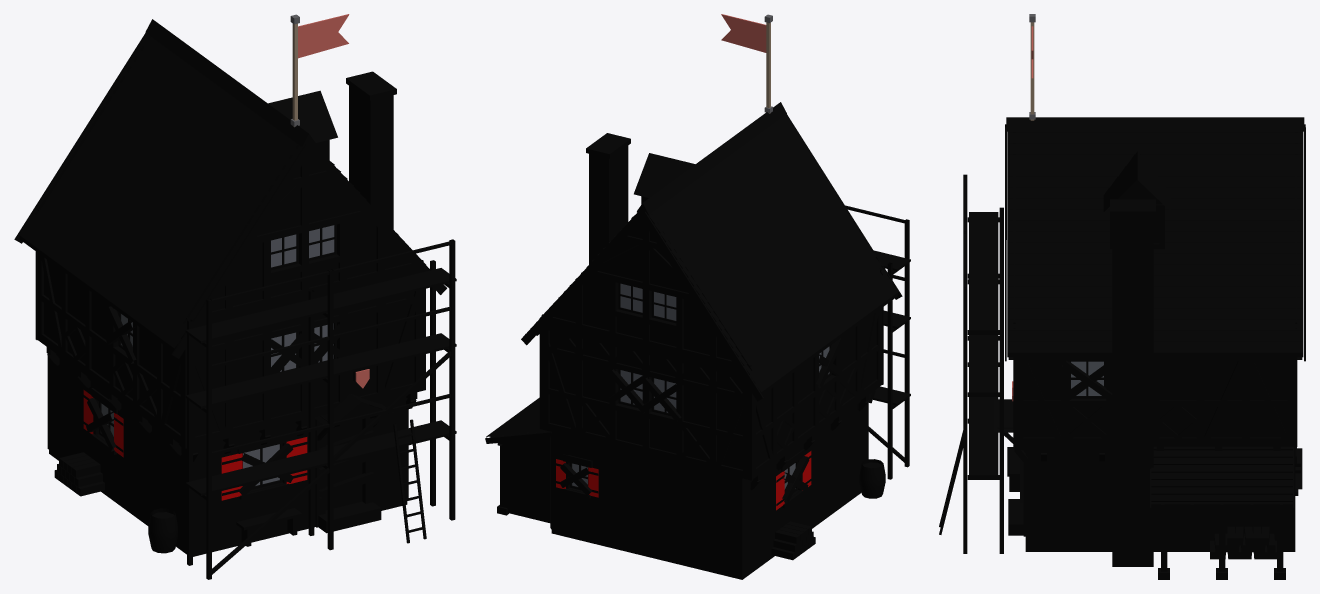
The model's file is wohnhaus_mensch_s2_g3.glb.
3 renders of one model, left to right at view 1: azimuth 30°, elevation 25°; view 2: azimuth 150°, elevation 25°; view 3: azimuth 270°, elevation 25°, orthographic. The views are drawn at different scales.
Parts seen in each view (by area): view 1: Haus, Dach, Geruest, Leerstand, Scheiben, Fahne; view 2: Haus, Dach, Geruest, Leerstand, Scheiben, Fahne; view 3: Dach, Haus, Geruest, Leerstand, Fahne, Scheiben.
Part boxes in pixels (x1,y1,x2,y2): Haus: (35, 36, 425, 556); Dach: (14, 19, 446, 358); Geruest: (185, 239, 456, 579); Leerstand: (86, 306, 374, 498); Scheiben: (101, 225, 334, 485); Fahne: (290, 14, 349, 127); Haus: (497, 117, 885, 579); Dach: (485, 102, 902, 443); Geruest: (845, 205, 910, 479); Leerstand: (559, 338, 843, 502); Scheiben: (572, 283, 829, 489); Fahne: (721, 14, 772, 113); Dach: (1005, 117, 1305, 507); Haus: (993, 132, 1298, 579); Geruest: (939, 174, 1003, 553); Leerstand: (1008, 357, 1302, 502); Fahne: (1029, 14, 1035, 120); Scheiben: (1071, 361, 1103, 395).
Bounding box in the file's own units: 7.73 × 11.75 × 8.03.
